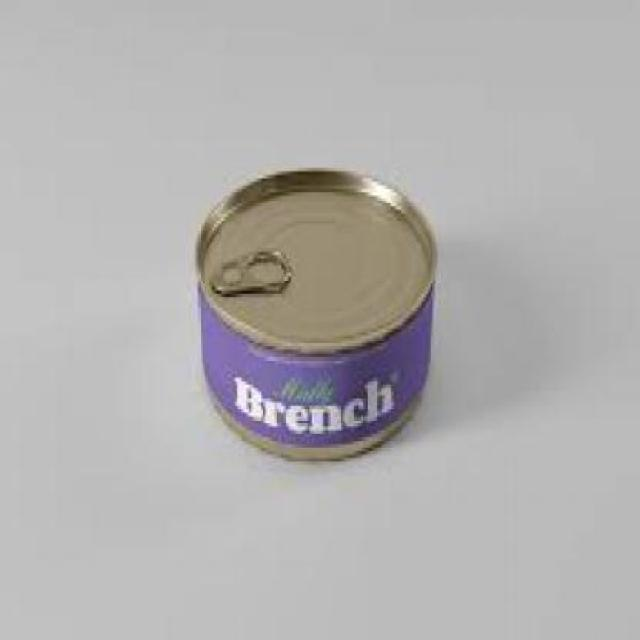METAL: (193, 168, 433, 464)
